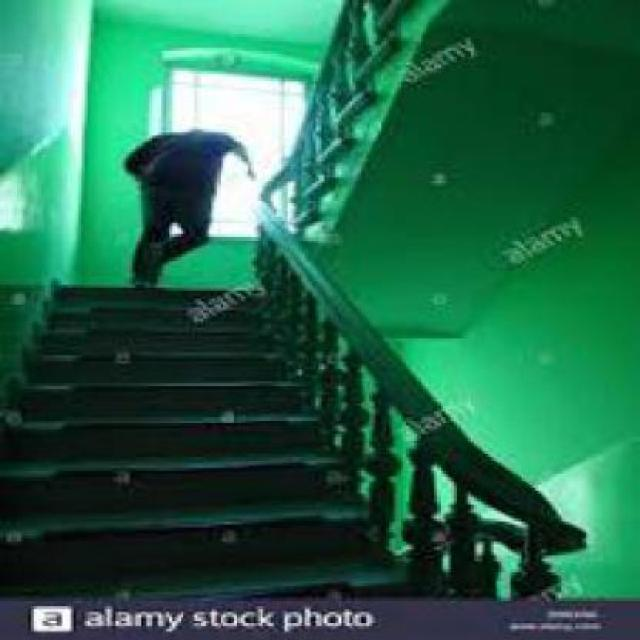stair: (23, 372, 369, 555)
